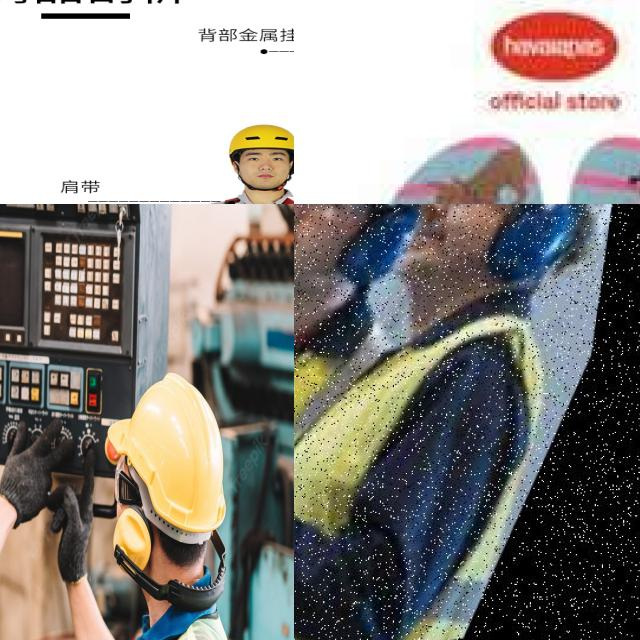Ear-protection: (96, 368, 239, 618), (327, 204, 423, 283), (508, 204, 596, 281)
Sandals: (318, 99, 640, 204)
vest: (294, 278, 516, 640)
